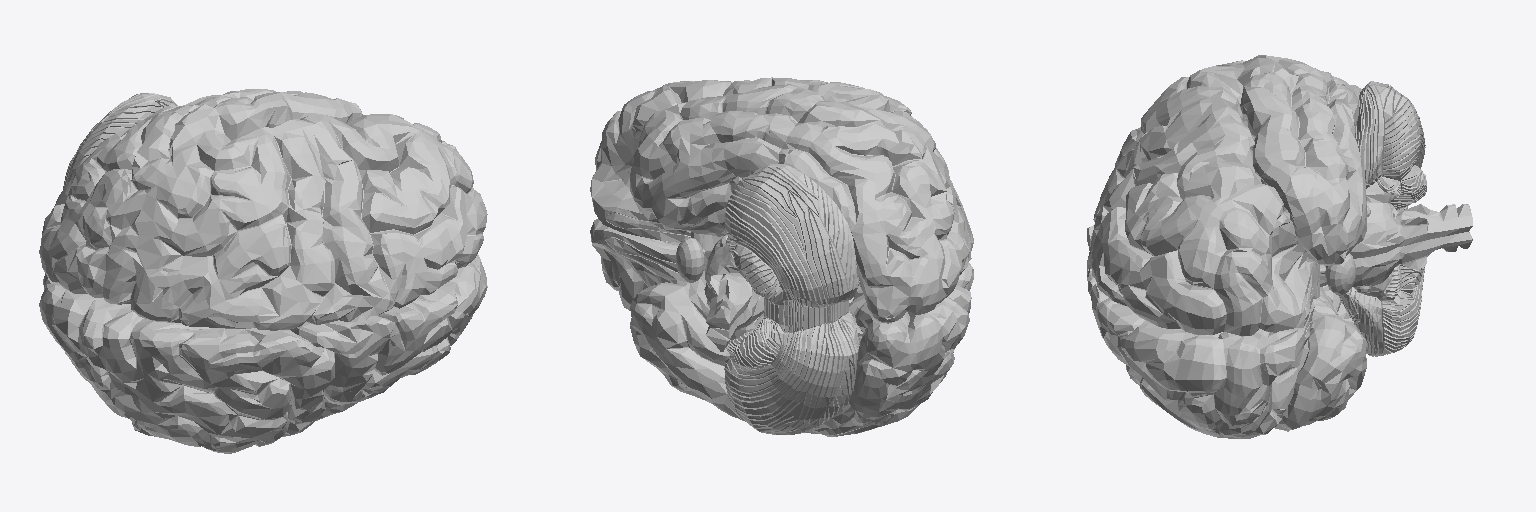
The model's file is brain.obj.
3 views of the same model, side by side, from view 1: azimuth 30°, elevation 25°; view 2: azimuth 150°, elevation 25°; view 3: azimuth 270°, elevation 25° (orthographic).
Bounding box in the file's own units: 6.42 × 5.28 × 5.62.